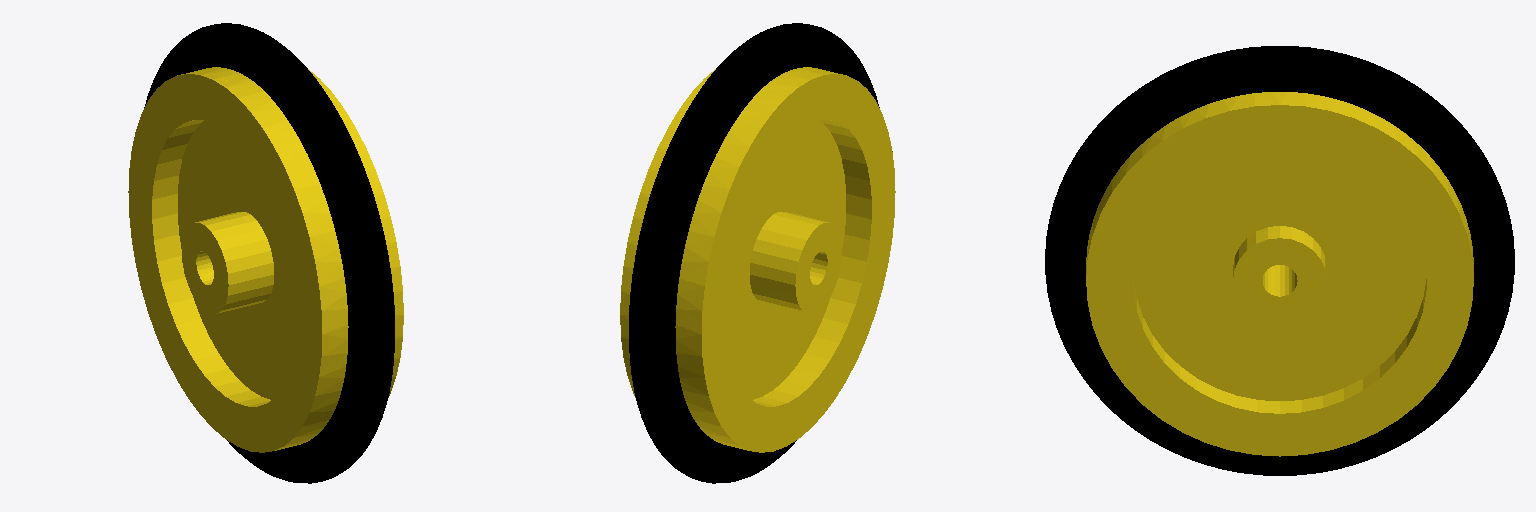
Rendered from colias_wheel.obj.
3 renders of one model, left to right at view 1: azimuth 30°, elevation 25°; view 2: azimuth 150°, elevation 25°; view 3: azimuth 270°, elevation 25°, orthographic.
Parts seen in each view (by area): view 1: wheel.fbx/RootNode001/RootNode001; view 2: wheel.fbx/RootNode001/RootNode001; view 3: wheel.fbx/RootNode001/RootNode001.
Boxes of the visible parts, <box> form: wheel.fbx/RootNode001/RootNode001: <box>128,23,403,483</box>; wheel.fbx/RootNode001/RootNode001: <box>620,23,895,483</box>; wheel.fbx/RootNode001/RootNode001: <box>1045,46,1514,475</box>.
Bounding box in the file's own units: 0.5 × 2 × 2.